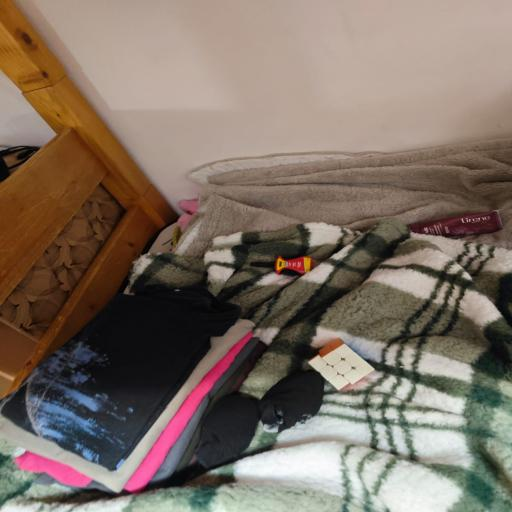Hand Cream: (410, 210, 504, 240)
Rubiks Cube: (306, 336, 375, 392)
Super Glue: (248, 254, 318, 277)
